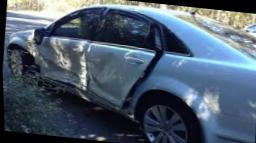Door: (37, 35, 92, 88), (87, 50, 119, 93)
